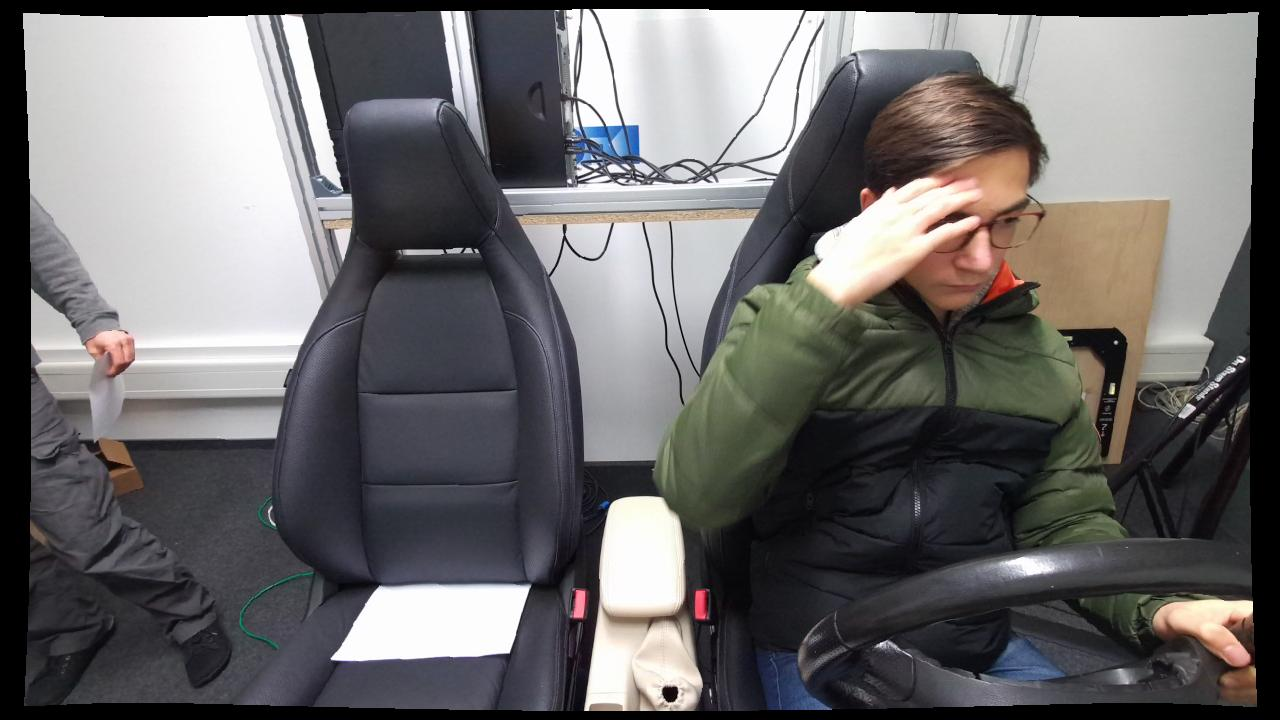Distracted: (657, 65, 1122, 712)
